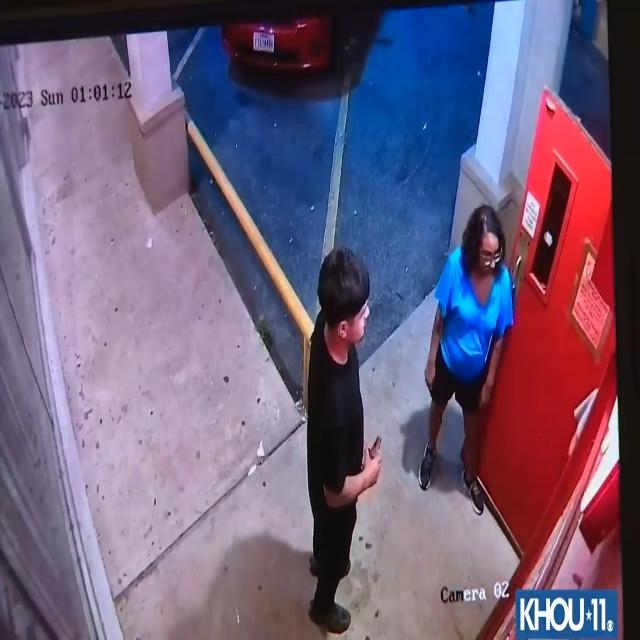Person: (307, 250, 383, 640), (424, 198, 512, 518)
